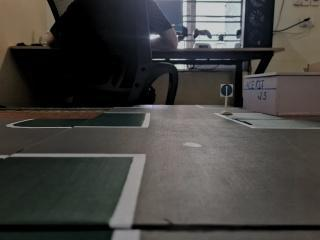straight: (219, 80, 235, 99)
